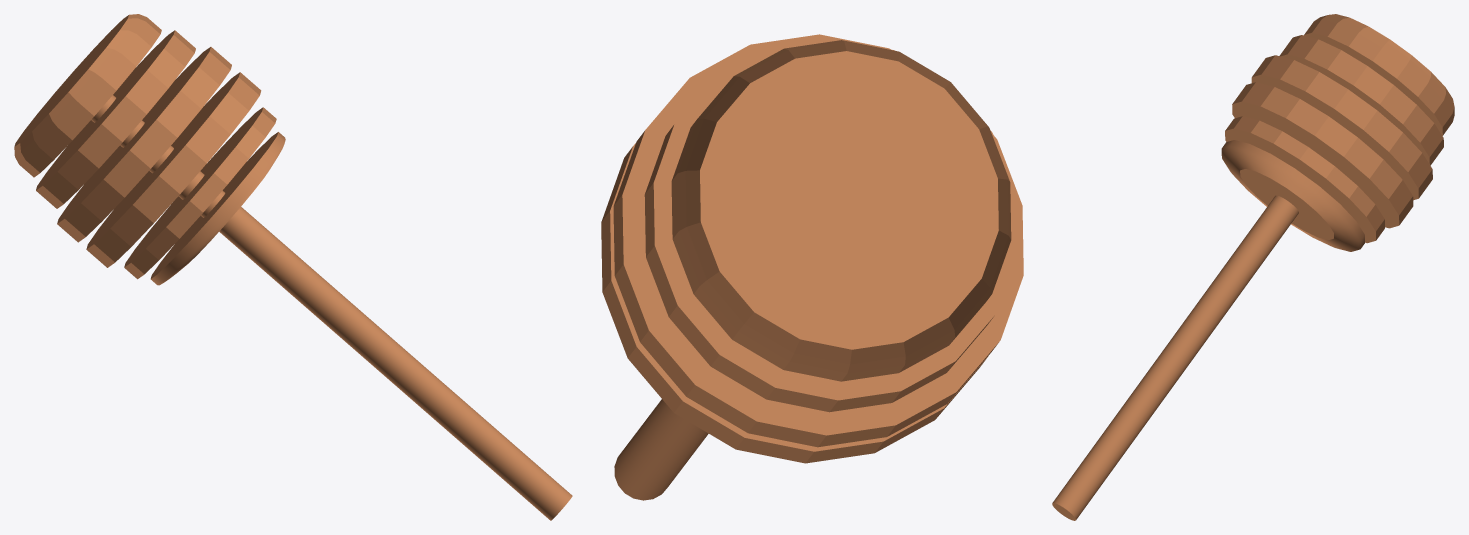
3 views of the same model, side by side, from view 1: azimuth 30°, elevation 25°; view 2: azimuth 150°, elevation 25°; view 3: azimuth 270°, elevation 25° (orthographic). The views are drawn at different scales.
Parts seen in each view (by area): view 1: Cylinder006, Cylinder001, Cylinder007, Cylinder002; view 2: Cylinder007, Cylinder006, Cylinder001; view 3: Cylinder006, Cylinder001, Cylinder002, Cylinder007.
Part boxes in pixels (x1,y1,x2,y2): Cylinder006: (36, 30, 276, 279); Cylinder001: (91, 95, 572, 520); Cylinder007: (14, 14, 161, 177); Cylinder002: (150, 132, 285, 285); Cylinder007: (671, 40, 1011, 381); Cylinder006: (601, 34, 1023, 463); Cylinder001: (614, 399, 708, 500); Cylinder006: (1225, 35, 1443, 243); Cylinder001: (1052, 195, 1298, 520); Cylinder002: (1221, 140, 1364, 251); Cylinder007: (1304, 14, 1454, 135).
Bounding box in the file's own units: 77906 × 85918 × 81170.
